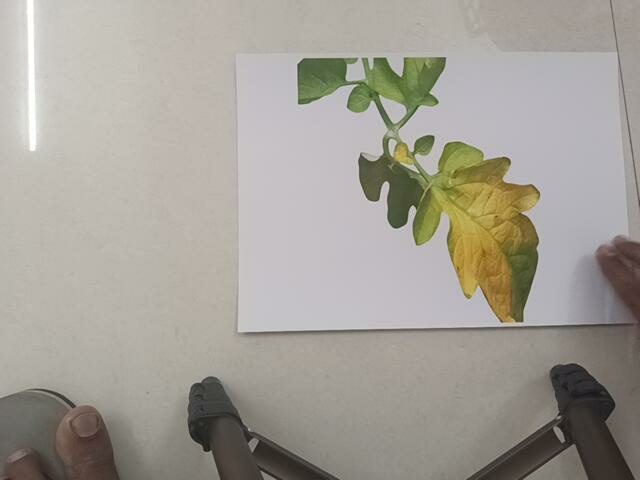Tomamto_Yellow_Disease: (294, 57, 554, 327)
